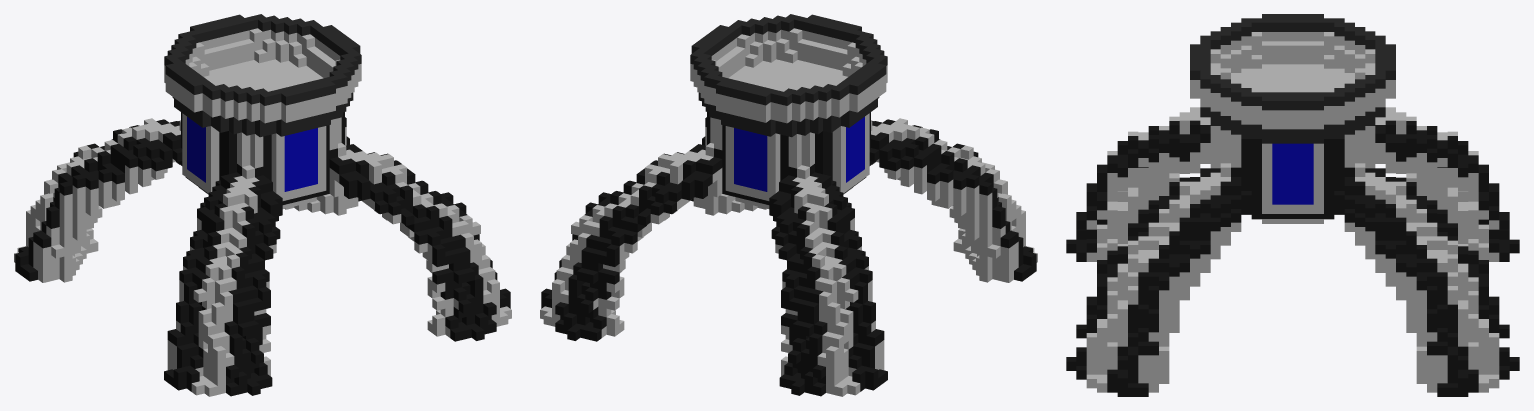
Rendered from slowTowerBase.fbx.
3 views of the same model, side by side, from view 1: azimuth 30°, elevation 25°; view 2: azimuth 150°, elevation 25°; view 3: azimuth 270°, elevation 25° (orthographic). The views are drawn at different scales.
Visible parts, largest first — view 1: slowTower_0; view 2: slowTower_0; view 3: slowTower_0.
Boxes of the visible parts, x1,y1,x2,y2 form: slowTower_0: (14,14,511,396); slowTower_0: (540,14,1037,396); slowTower_0: (1066,14,1519,396).
Bounding box in the file's own units: 40 × 27 × 44.
Materials: 1 (1 with a texture image).
